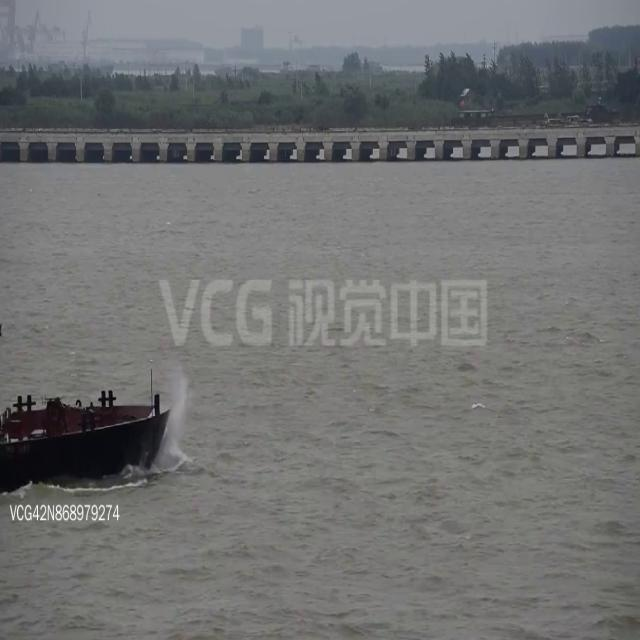houseboat: (0, 314, 169, 494)
